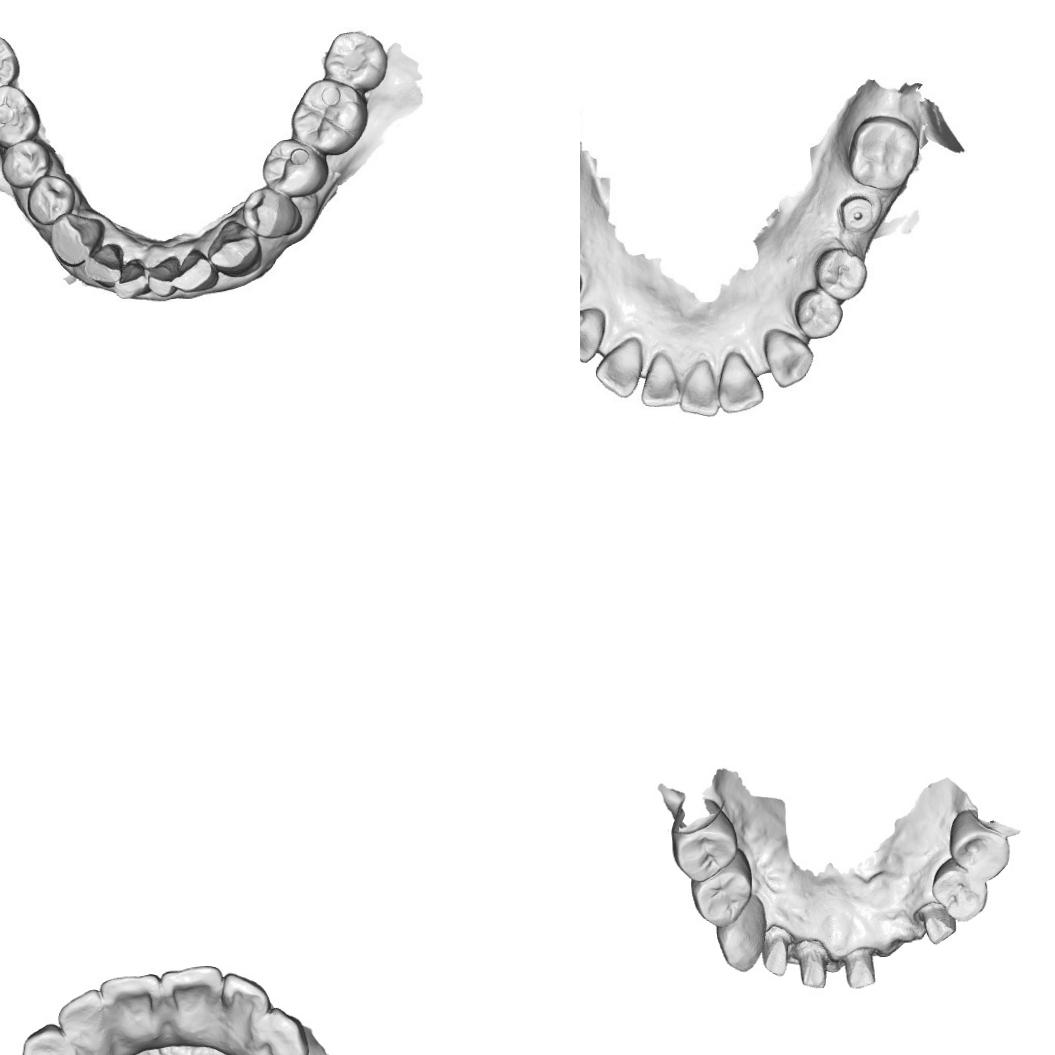canine: (714, 893, 768, 974), (205, 219, 262, 278), (761, 326, 814, 389), (49, 212, 106, 268), (248, 1007, 308, 1055), (18, 1023, 75, 1055), (580, 307, 607, 363)
crown: (913, 900, 958, 946), (838, 944, 880, 992), (762, 922, 796, 979), (796, 939, 830, 990)
implant: (837, 195, 877, 234)
incisor: (158, 963, 226, 1024), (593, 338, 646, 400), (101, 973, 162, 1026), (222, 970, 272, 1032), (717, 351, 765, 414), (55, 990, 107, 1044), (677, 354, 719, 418), (638, 351, 683, 408), (170, 247, 219, 294), (82, 242, 125, 288), (112, 258, 150, 300), (147, 255, 180, 298)
molar: (288, 76, 368, 156), (849, 114, 922, 192), (322, 29, 388, 92), (0, 83, 41, 148), (0, 34, 20, 96)
premolar: (669, 810, 740, 884), (690, 849, 754, 930), (945, 810, 1012, 884), (260, 138, 330, 198), (929, 858, 988, 924), (811, 244, 871, 304), (242, 185, 302, 240), (793, 288, 846, 340), (1, 137, 52, 190), (26, 174, 76, 226)
